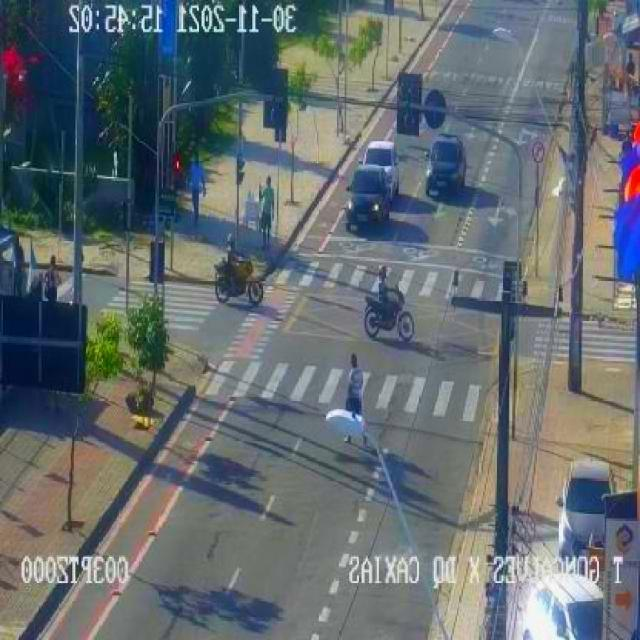Car: (517, 572, 604, 640), (557, 460, 615, 559), (344, 167, 396, 228), (424, 135, 467, 198), (357, 140, 399, 201)
Cycle: (362, 286, 413, 342), (214, 253, 261, 305)
